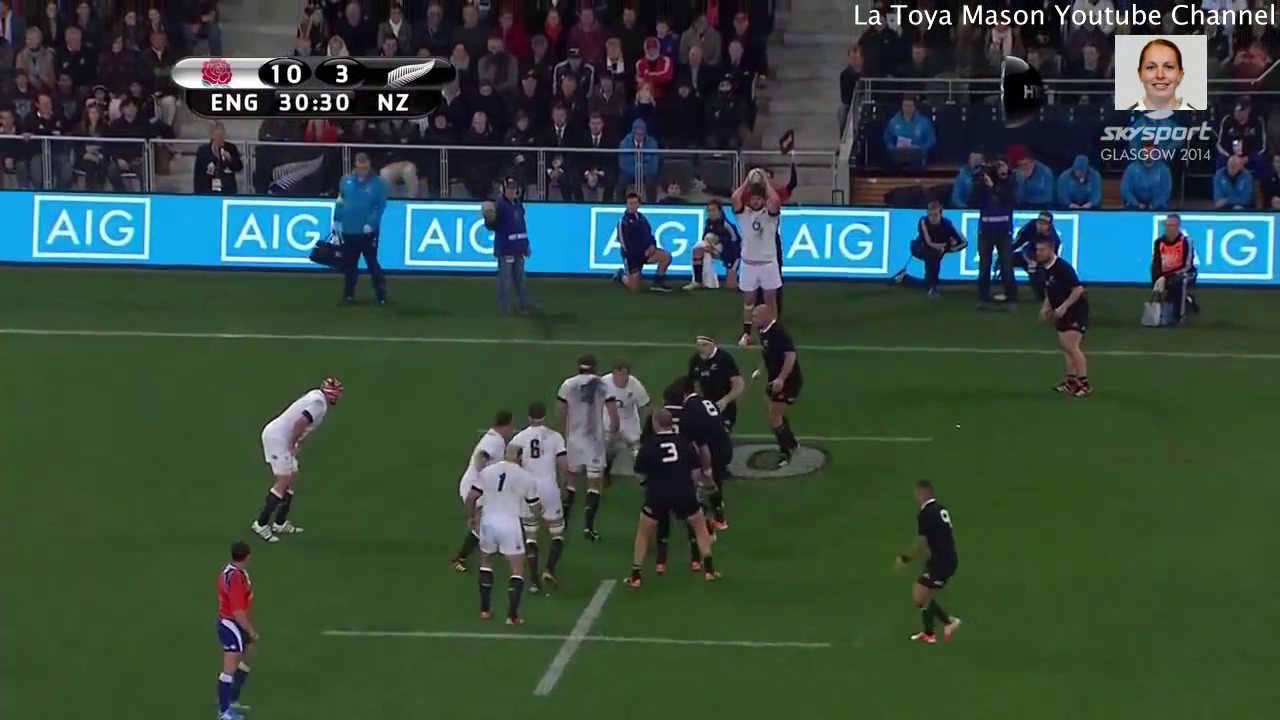10_metre: (308, 568, 849, 708), (548, 396, 948, 482)
ball: (743, 157, 770, 193)
player: (626, 406, 735, 598), (240, 376, 347, 550), (505, 394, 579, 600), (888, 477, 969, 648), (1020, 233, 1101, 404), (199, 536, 274, 720), (467, 442, 538, 632), (447, 398, 519, 581), (745, 296, 818, 471), (545, 348, 610, 539), (722, 162, 788, 349), (670, 370, 742, 506), (682, 329, 751, 458), (600, 355, 652, 493)
